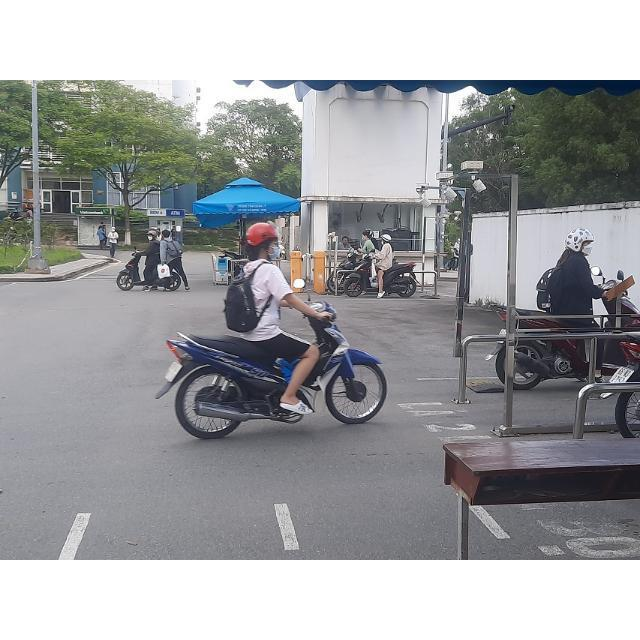Helmet: (246, 220, 282, 260), (564, 227, 596, 257)
